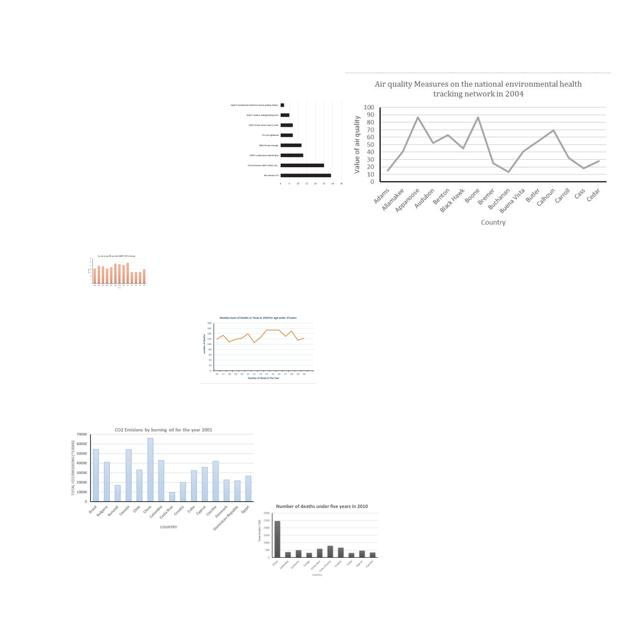Graph: (345, 72, 611, 230), (70, 426, 256, 532), (229, 100, 345, 187), (256, 501, 381, 581), (200, 314, 316, 384), (87, 254, 147, 289)
